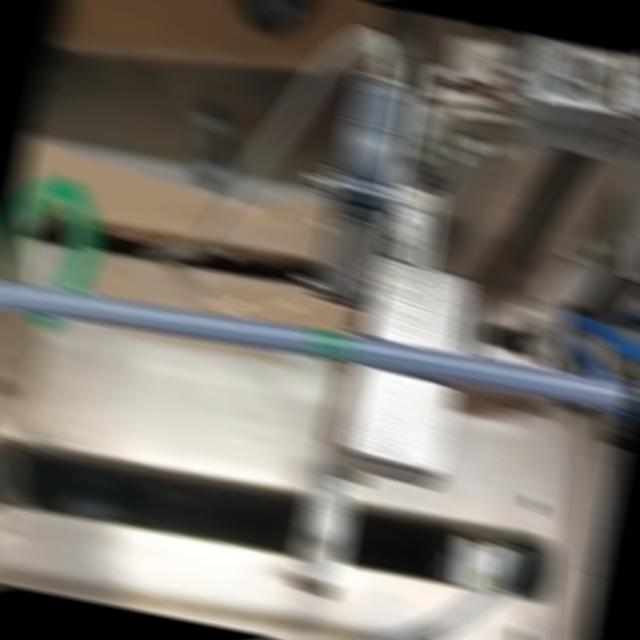green: (308, 323, 357, 362)
